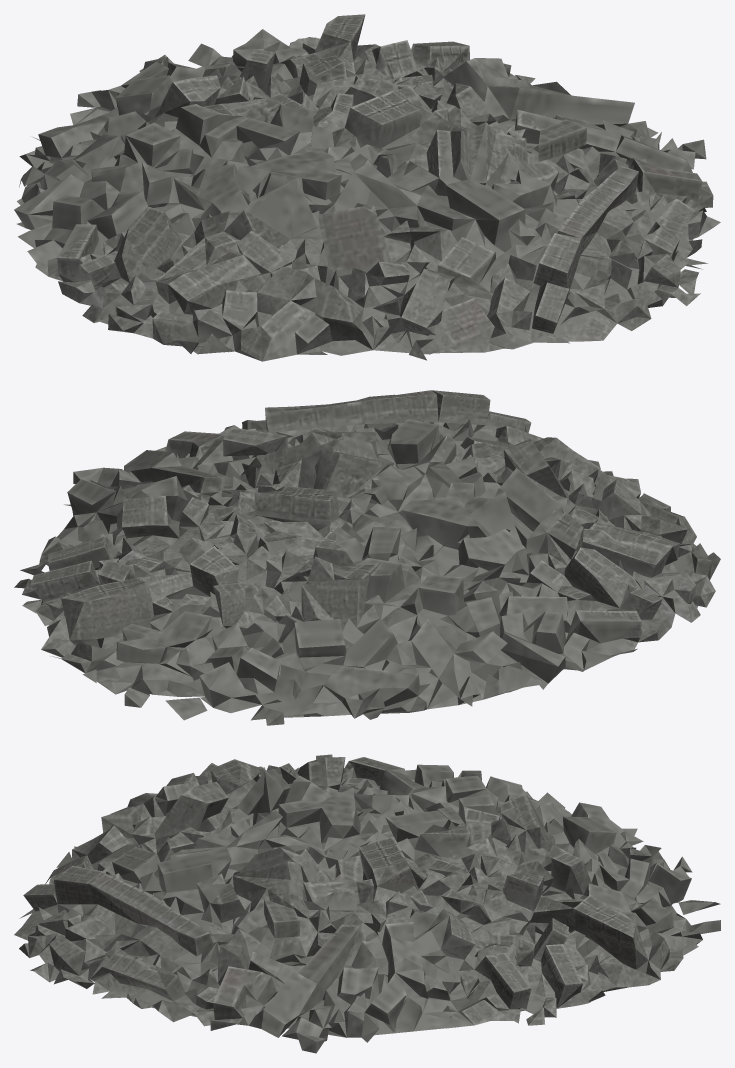
Rendered from stone_rubble.glb.
3 views of the same model, one above another, from view 1: azimuth 30°, elevation 25°; view 2: azimuth 150°, elevation 25°; view 3: azimuth 270°, elevation 25° (orthographic). The views are drawn at different scales.
Parts seen in each view (by area): view 1: output_unwrapped; view 2: output_unwrapped; view 3: output_unwrapped.
Part boxes in pixels (x1,y1,x2,y2): output_unwrapped: [14, 14, 720, 361]; output_unwrapped: [14, 390, 720, 725]; output_unwrapped: [14, 754, 720, 1053].
Bounding box in the file's own units: 1.73 × 0.2667 × 1.86.
1 material, 1 textured.
